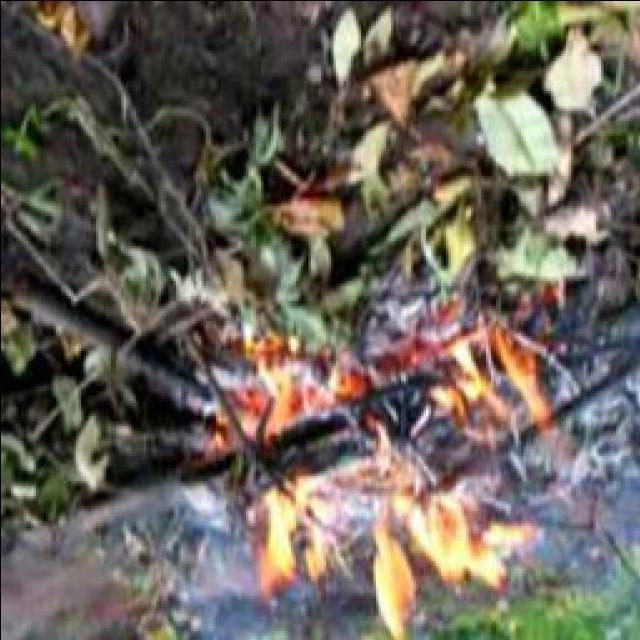Fire: (209, 324, 574, 626)
